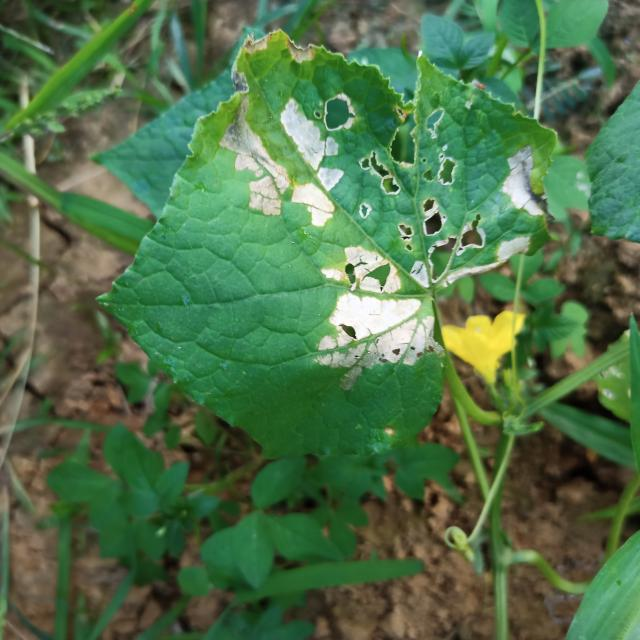disease_cucumber: (222, 33, 553, 248), (315, 230, 446, 396)
